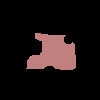shorts: (26, 32, 76, 70)
